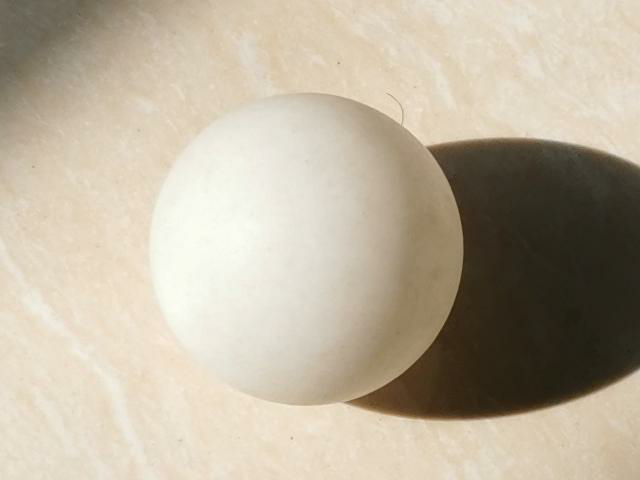ball: (148, 92, 459, 406)
